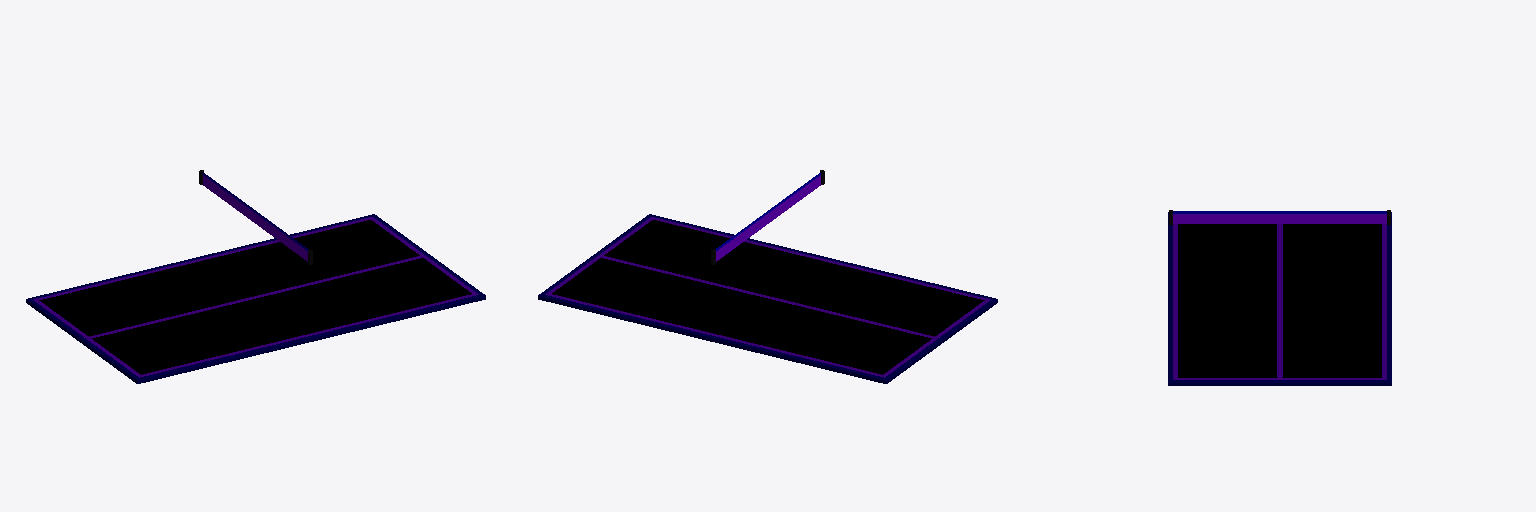
Rendered from table4.obj.
3 renders of one model, left to right at view 1: azimuth 30°, elevation 25°; view 2: azimuth 150°, elevation 25°; view 3: azimuth 270°, elevation 25°, orthographic.
Visible parts, largest first — view 1: Box001_Untitled.000, Plane001_Untitled.015; view 2: Box001_Untitled.000, Plane001_Untitled.015; view 3: Box001_Untitled.000, Plane001_Untitled.015.
Boxes of the visible parts, <box> form: Box001_Untitled.000: <box>26,214,485,383</box>; Plane001_Untitled.015: <box>203,172,308,261</box>; Box001_Untitled.000: <box>538,214,997,383</box>; Plane001_Untitled.015: <box>715,172,820,261</box>; Box001_Untitled.000: <box>1168,212,1391,385</box>; Plane001_Untitled.015: <box>1173,211,1386,223</box>.
Size of the model in its own units: 2.74 by 0.6787 by 1.52.